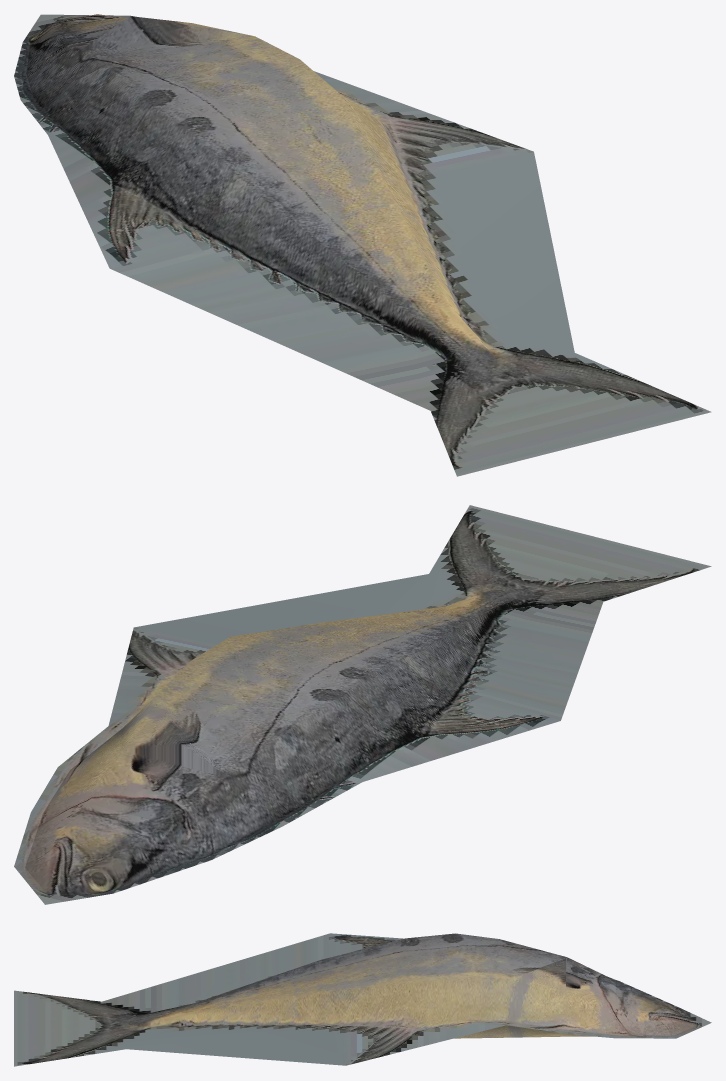
The model's file is prop_fish_01.glb.
3 views of the same model, one above another, from view 1: azimuth 30°, elevation 25°; view 2: azimuth 150°, elevation 25°; view 3: azimuth 270°, elevation 25° (orthographic). The views are drawn at different scales.
Parts seen in each view (by area): view 1: prop_fish_01; view 2: prop_fish_01; view 3: prop_fish_01.
Part boxes in pixels (x1,y1,x2,y2): prop_fish_01: [14, 14, 711, 476]; prop_fish_01: [14, 505, 711, 904]; prop_fish_01: [14, 933, 711, 1066].
Bounding box in the file's own units: 0.3393 × 0.0825 × 0.7518.
1 material, 1 textured.
